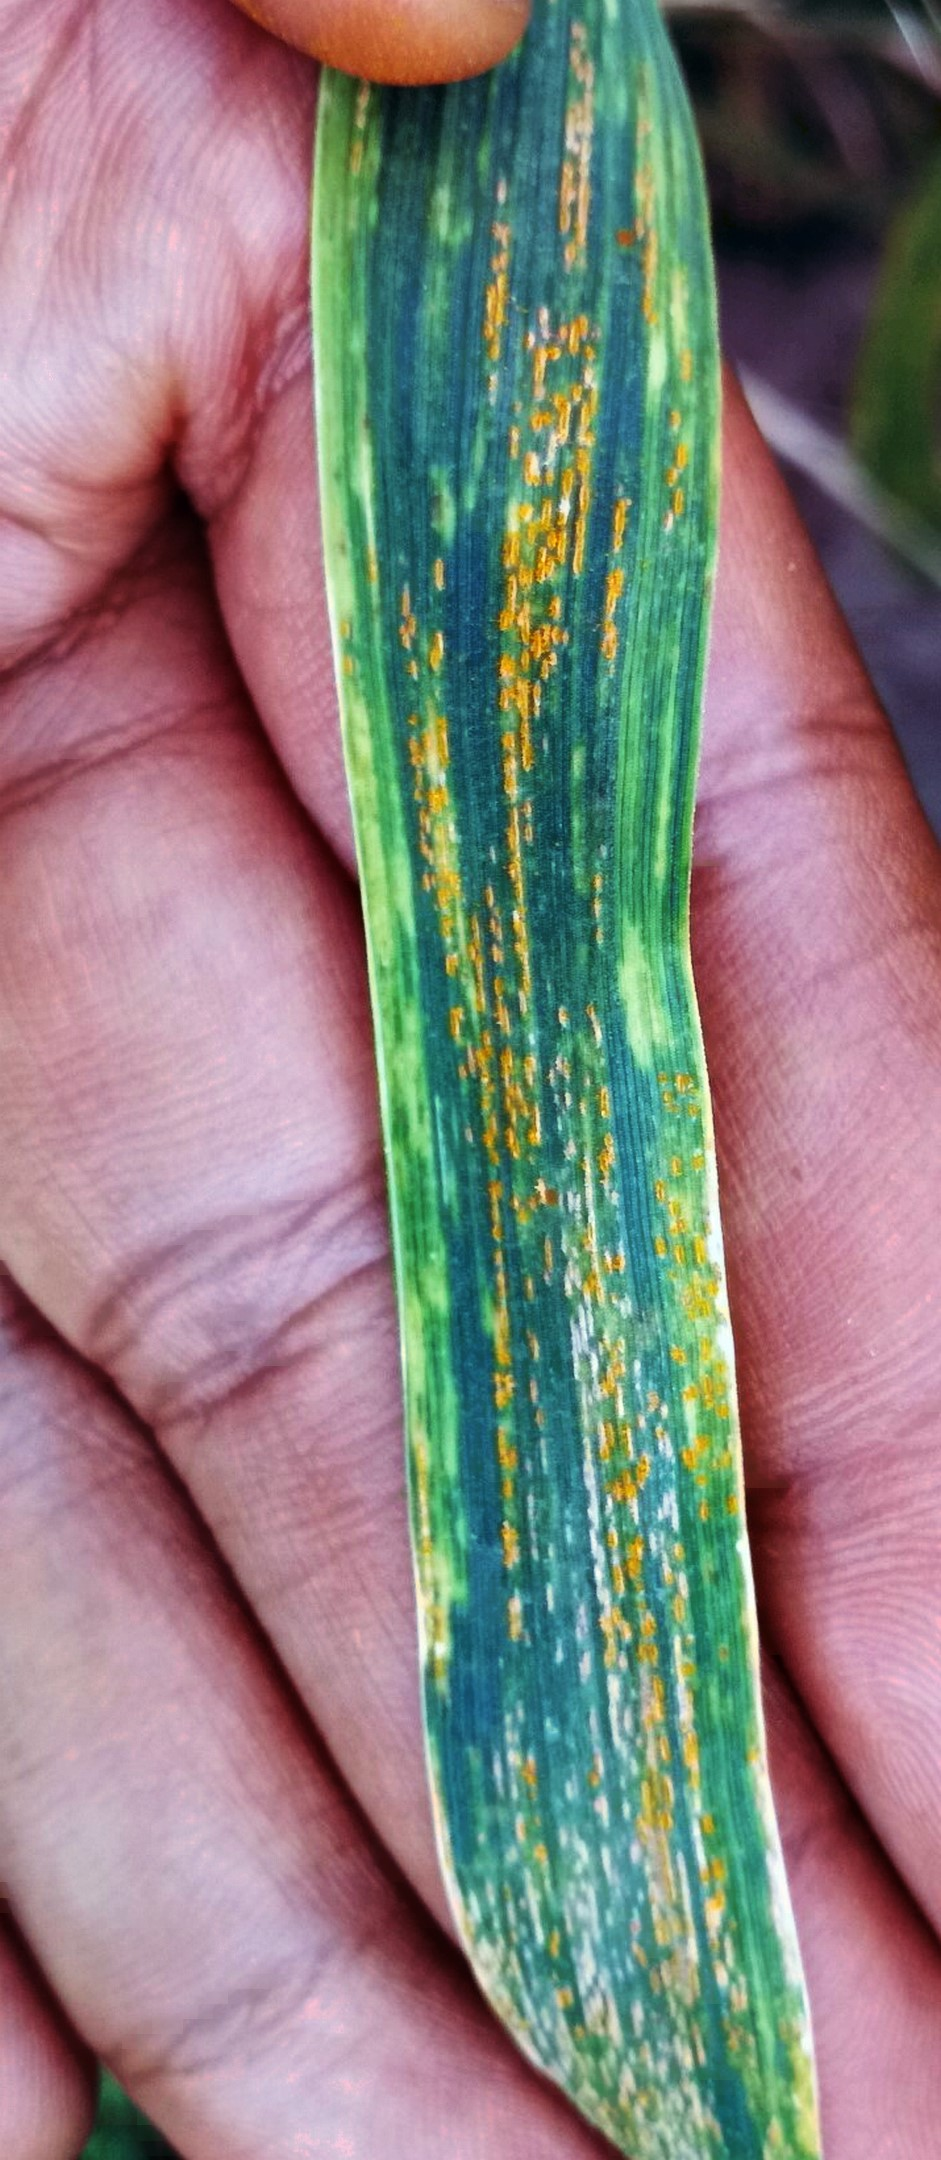Leaf Rust: (327, 333, 834, 1986)
